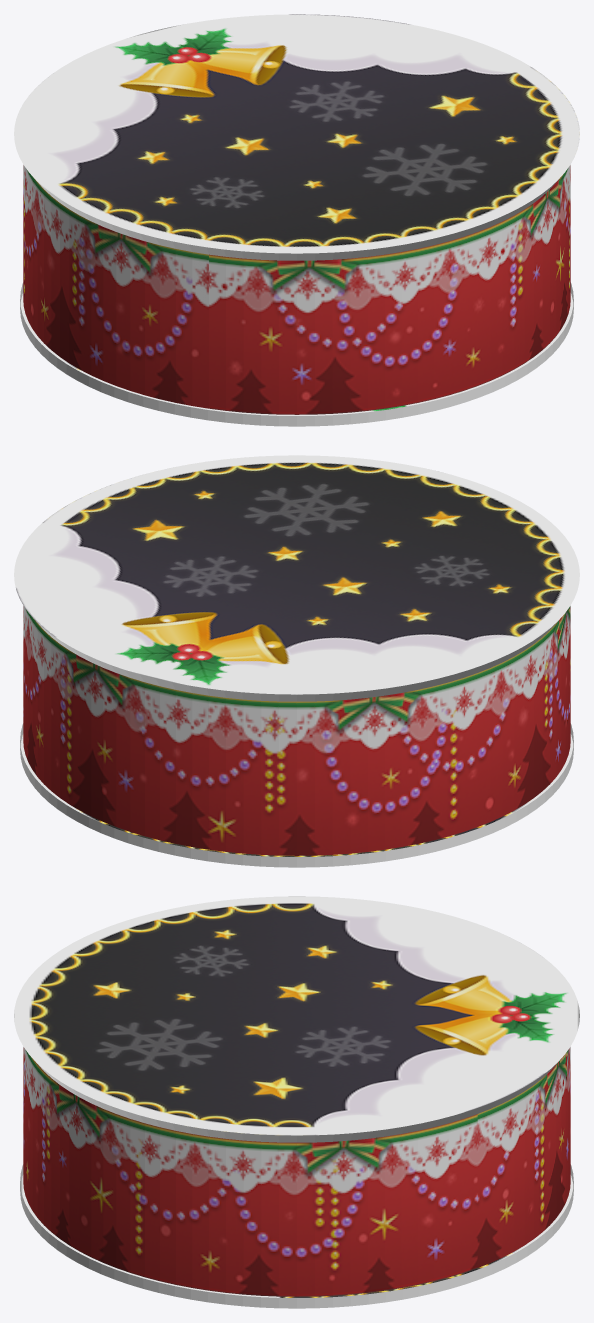
The model's file is pedestal.glb.
The picture shows the model from 3 angles, top to bottom: view 1: azimuth 30°, elevation 25°; view 2: azimuth 150°, elevation 25°; view 3: azimuth 270°, elevation 25°; orthographic projection.
Parts seen in each view (by area): view 1: StandAtlasTop, StandAtlasSide, GoldFootTrim, GoldTopLip, StandSolidBottom; view 2: StandAtlasTop, StandAtlasSide, GoldFootTrim, GoldTopLip, StandSolidBottom; view 3: StandAtlasTop, StandAtlasSide, GoldFootTrim, GoldTopLip, StandSolidBottom.
Boxes of the visible parts, left/top/right/bottom form: StandAtlasTop: left=14, top=14, right=579, bottom=253; StandAtlasSide: left=23, top=165, right=570, bottom=414; GoldFootTrim: left=20, top=282, right=573, bottom=426; GoldTopLip: left=33, top=177, right=560, bottom=260; StandSolidBottom: left=20, top=293, right=573, bottom=415; StandAtlasTop: left=14, top=455, right=579, bottom=694; StandAtlasSide: left=23, top=606, right=570, bottom=855; GoldFootTrim: left=20, top=723, right=573, bottom=867; GoldTopLip: left=33, top=618, right=560, bottom=701; StandSolidBottom: left=20, top=734, right=573, bottom=856; StandAtlasTop: left=14, top=896, right=579, bottom=1135; StandAtlasSide: left=23, top=1047, right=570, bottom=1296; GoldFootTrim: left=20, top=1164, right=573, bottom=1308; GoldTopLip: left=33, top=1059, right=560, bottom=1142; StandSolidBottom: left=20, top=1175, right=573, bottom=1297.
Bounding box in the file's own units: 4 × 1.37 × 4.
2 materials, 1 textured.
